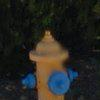Hydrant: (23, 26, 76, 100)
